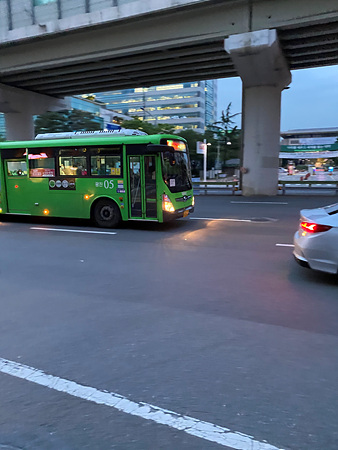entrance: (127, 150, 159, 225)
